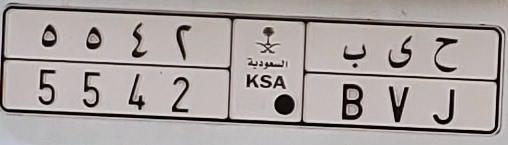2: (170, 23, 192, 113)
4: (128, 22, 147, 112)
5: (36, 23, 60, 106), (80, 25, 103, 108)
B: (340, 42, 367, 122)
J: (433, 36, 461, 126)
V: (387, 34, 413, 123)
